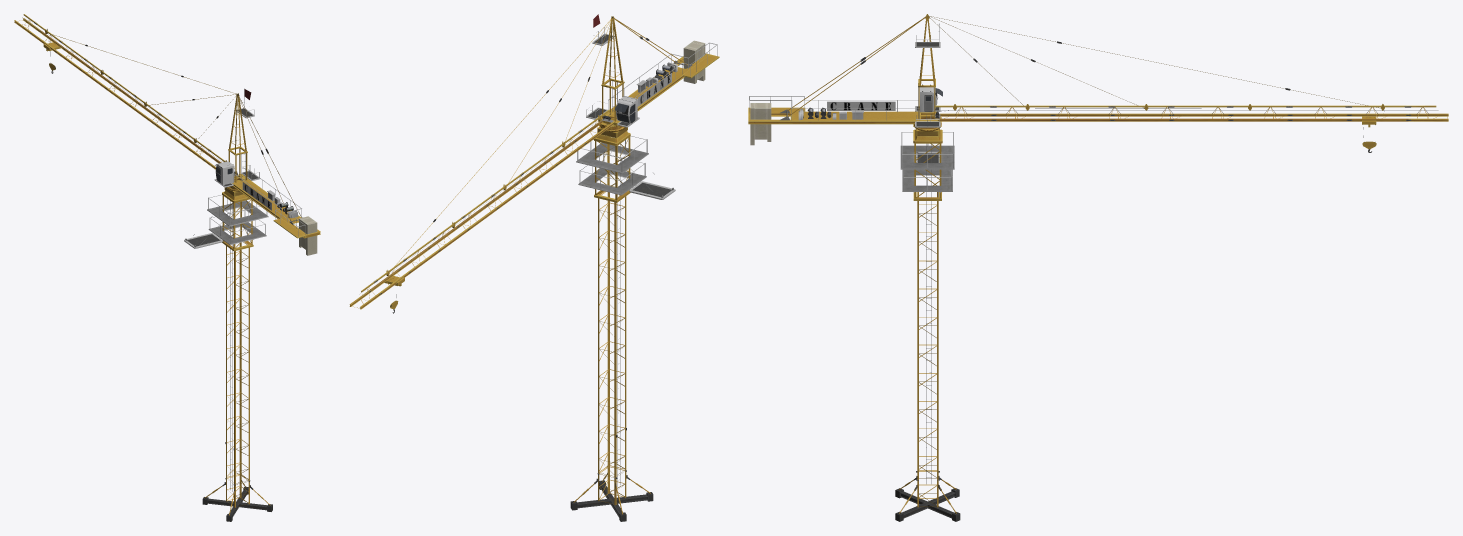
Rendered from Tower_Crane.glb.
3 views of the same model, side by side, from view 1: azimuth 30°, elevation 25°; view 2: azimuth 150°, elevation 25°; view 3: azimuth 270°, elevation 25° (orthographic). The views are drawn at different scales.
Visible parts, largest first — view 1: Tower_Crane__LOD4; view 2: Tower_Crane__LOD4; view 3: Tower_Crane__LOD4.
Boxes of the visible parts, left/top/right/bottom form: Tower_Crane__LOD4: left=14, top=14, right=320, bottom=521; Tower_Crane__LOD4: left=349, top=14, right=719, bottom=521; Tower_Crane__LOD4: left=748, top=14, right=1448, bottom=521.
Bounding box in the file's own units: 19.13 × 105 × 135.
Materials: 2 (2 with a texture image).
